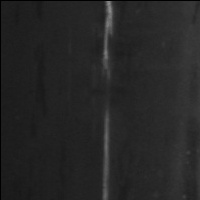scratches: (100, 103, 116, 200), (97, 1, 117, 75)
